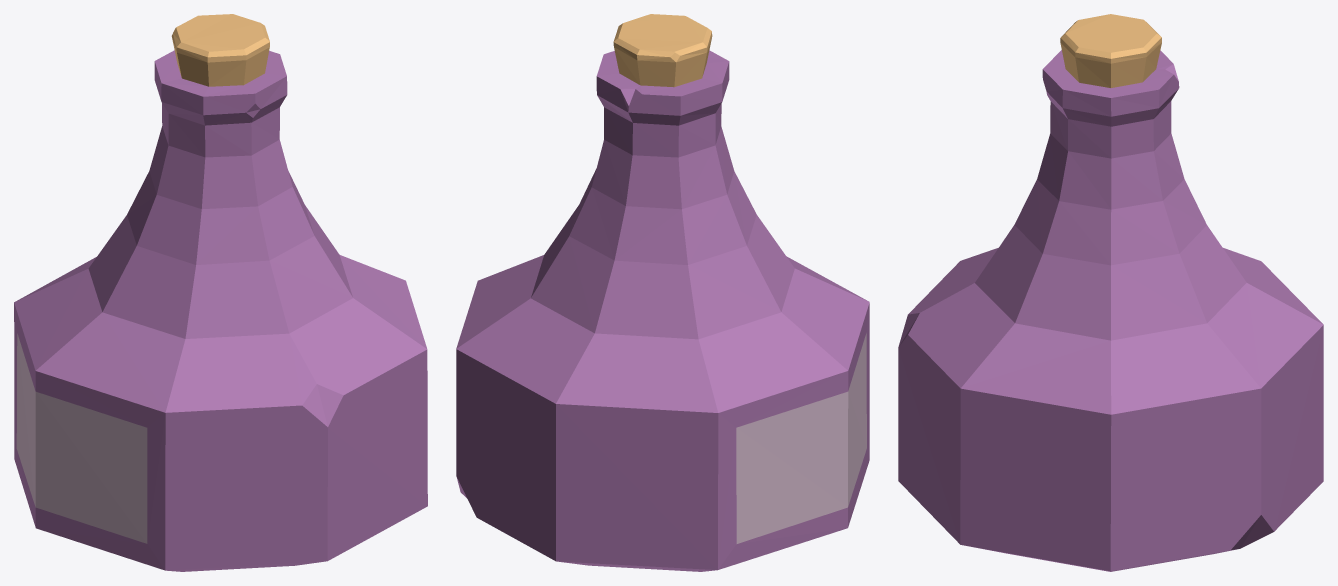
File: SFI_Shampoo.fbx
The picture shows the model from 3 angles, left to right: view 1: azimuth 30°, elevation 25°; view 2: azimuth 150°, elevation 25°; view 3: azimuth 270°, elevation 25°; orthographic projection.
Parts seen in each view (by area): view 1: SFI_Shampoo; view 2: SFI_Shampoo; view 3: SFI_Shampoo.
Boxes of the visible parts, <box> form: SFI_Shampoo: <box>14,14,427,571</box>; SFI_Shampoo: <box>456,14,869,571</box>; SFI_Shampoo: <box>898,14,1323,571</box>.
Size of the model in its own units: 24.62 by 30.42 by 24.63.
